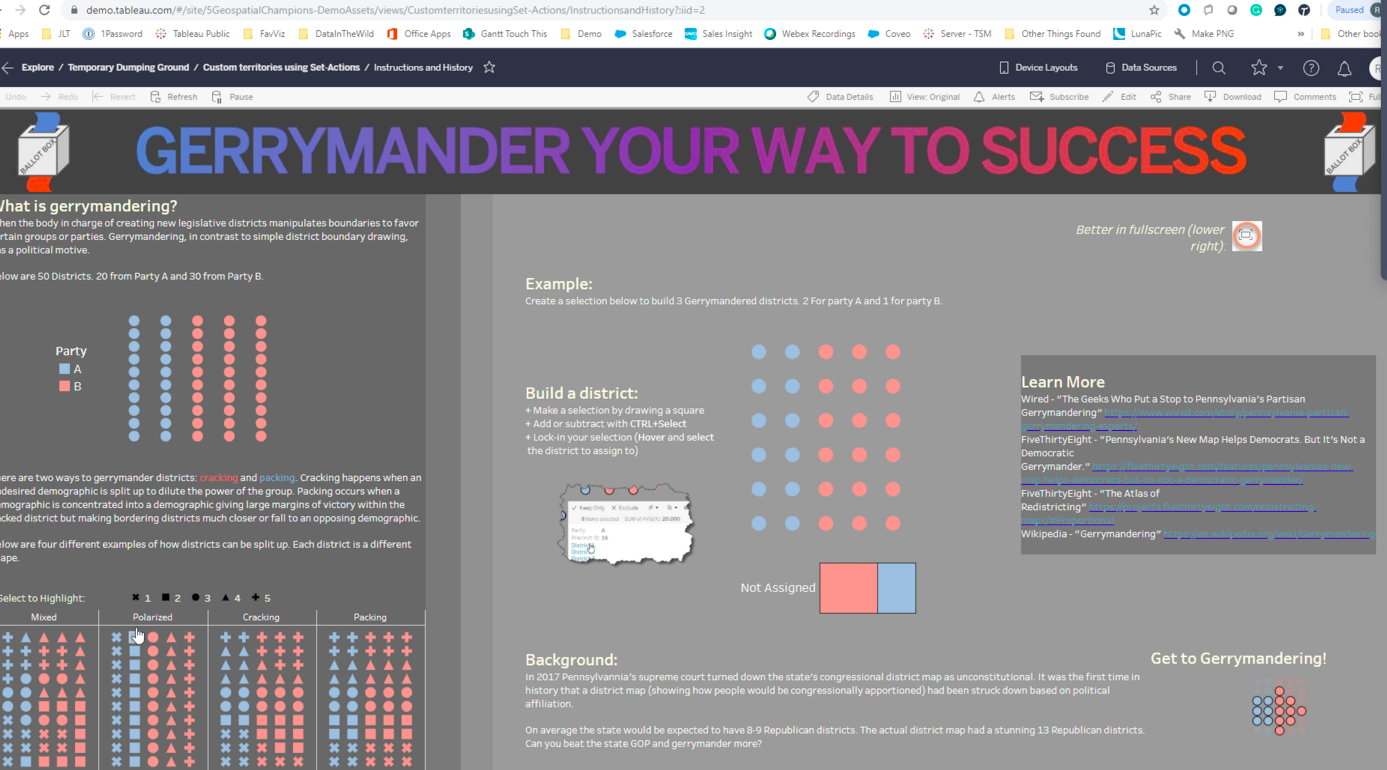

The dashboard page shown, as its layout file describes it:
{"tool":"tableau","page":{"name":"Instructions and History","canvas":[1000,1000],"units":"permille","ordinal":1},"visuals":[{"type":"image","param":"Image/Ballot Box.png","box":[2.1,3.4,73,125.7]},{"type":"image","param":"Image/Title.png","box":[75.1,3.4,838.2,125.7]},{"type":"image","param":"Image/Ballot Box2.png","box":[913.3,3.4,84.6,125.7]},{"type":"text","box":[2.1,129.1,305.9,172]},{"type":"blank","box":[308.1,129.1,24.8,867.6]},{"type":"blank","box":[332.9,129.1,22.7,867.6]},{"type":"blank","box":[355.6,129.1,22.7,867.6]},{"type":"blank","box":[378.3,129.1,619.6,36.1]},{"type":"blank","box":[378.3,165.2,371.2,58.4]},{"type":"text","box":[749.5,165.2,122.8,58.4]},{"type":"image","param":"Image/fullscreen.png","box":[872.2,165.2,125.6,58.4]},{"type":"text","box":[378.3,223.6,619.6,94.3]},{"type":"blank","box":[2.1,301.1,92.9,49.5]},{"type":"worksheet","title":"Example Districts","mark":"Shape","rows":["Y"],"cols":["X"],"box":[95,301.1,105.7,205.6]},{"type":"blank","box":[200.7,301.1,107.3,205.6]},{"type":"blank","box":[378.3,317.9,143.4,55.1]},{"type":"worksheet","title":"Play around","mark":"Shape","rows":["Y"],"cols":["X"],"box":[521.6,317.9,134.8,348.3]},{"type":"blank","box":[656.5,317.9,69.6,447.2]},{"type":"blank","box":[726,317.9,271.8,51.7]},{"type":"blank","box":[2.1,350.5,46.4,87.6]},{"type":"legend","title":"Example Districts","param":"[federated.1js1v6k0ztym3619vwe740ow3l0m].[none:Party:nk]","box":[48.6,350.5,46.5,87.6]},{"type":"text","box":[726,369.7,249.1,296.6]},{"type":"blank","box":[975.1,369.7,22.7,296.6]},{"type":"text","box":[378.3,373,143.4,182]},{"type":"blank","box":[2.1,438.2,92.9,68.5]},{"type":"text","box":[2.1,506.7,305.9,206.7]},{"type":"image","param":"Image/Select District.png","box":[378.3,555.1,143.4,141.6]},{"type":"worksheet","title":"Summary","mark":"Automatic","rows":["Calculation_747597595586387969"],"cols":["Number of Records"],"box":[521.6,666.3,134.8,98.9]},{"type":"blank","box":[726,666.3,271.8,98.9]},{"type":"blank","box":[378.3,696.6,143.4,68.5]},{"type":"text","box":[2.1,713.4,97.2,36]},{"type":"legend","title":"Sample Districts","param":"[federated.1js1v6k0ztym3619vwe740ow3l0m].[none:District ID:ok]","box":[99.4,713.4,159.7,36]},{"type":"blank","box":[259.1,713.4,49,36]},{"type":"worksheet","title":"Sample Districts","mark":"Shape","rows":["Y"],"cols":["Configuration","X"],"box":[2.1,749.4,305.9,247.2]},{"type":"text","box":[378.3,765.1,427.3,231.5]},{"type":"blank","box":[805.5,765.1,192.3,36]},{"type":"text","box":[805.5,801.1,192.3,36]},{"type":"dashboard-object","box":[805.5,837.1,192.3,113.5]},{"type":"text","box":[805.5,950.6,192.3,46.1]}]}

Visuals, with their boxes on the dashboard's canvas, which has no fixed pixel size, in thousandths of its width and height (x1, y1, x2, y2). These are canvas units, not pixel positions in the 1387x770 screenshot, which may show the page scaled, cropped or inside an application window:
image: <box>2,3,75,129</box>
image: <box>75,3,913,129</box>
image: <box>913,3,998,129</box>
text: <box>2,129,308,301</box>
blank: <box>308,129,333,997</box>
blank: <box>333,129,356,997</box>
blank: <box>356,129,378,997</box>
blank: <box>378,129,998,165</box>
blank: <box>378,165,750,224</box>
text: <box>750,165,872,224</box>
image: <box>872,165,998,224</box>
text: <box>378,224,998,318</box>
blank: <box>2,301,95,351</box>
"Example Districts" worksheet (Shape marks): <box>95,301,201,507</box>
blank: <box>201,301,308,507</box>
blank: <box>378,318,522,373</box>
"Play around" worksheet (Shape marks): <box>522,318,656,666</box>
blank: <box>656,318,726,765</box>
blank: <box>726,318,998,370</box>
blank: <box>2,350,48,438</box>
"Example Districts" legend: <box>49,350,95,438</box>
text: <box>726,370,975,666</box>
blank: <box>975,370,998,666</box>
text: <box>378,373,522,555</box>
blank: <box>2,438,95,507</box>
text: <box>2,507,308,713</box>
image: <box>378,555,522,697</box>
"Summary" worksheet: <box>522,666,656,765</box>
blank: <box>726,666,998,765</box>
blank: <box>378,697,522,765</box>
text: <box>2,713,99,749</box>
"Sample Districts" legend: <box>99,713,259,749</box>
blank: <box>259,713,308,749</box>
"Sample Districts" worksheet (Shape marks): <box>2,749,308,997</box>
text: <box>378,765,806,997</box>
blank: <box>806,765,998,801</box>
text: <box>806,801,998,837</box>
dashboard-object: <box>806,837,998,951</box>
text: <box>806,951,998,997</box>
